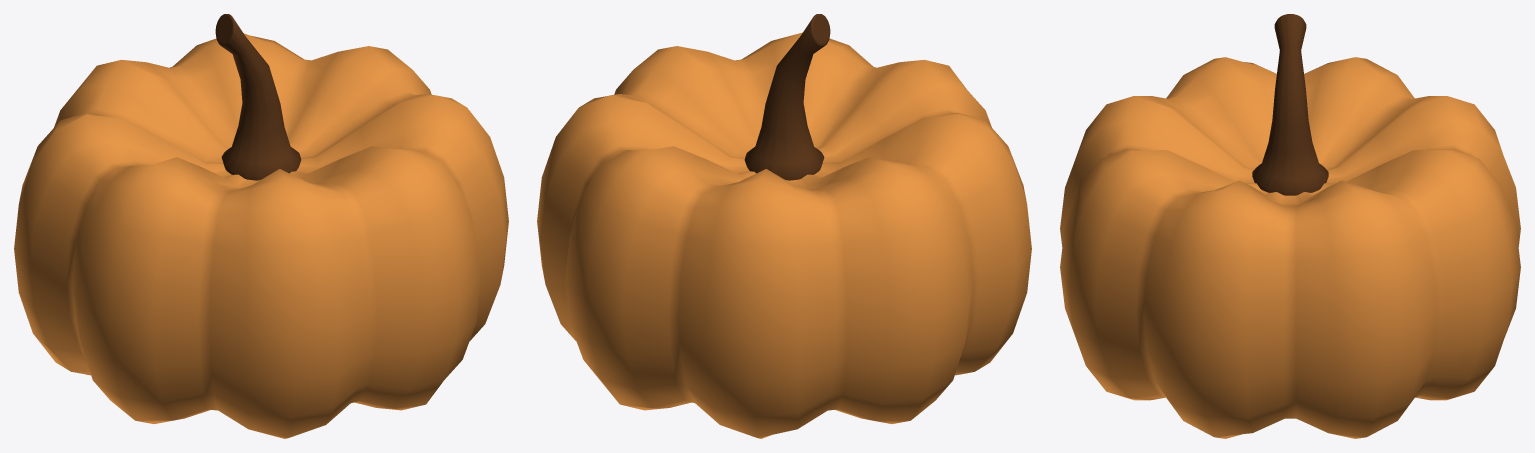
File: UncarvedPumpkin.glb
3 renders of one model, left to right at view 1: azimuth 30°, elevation 25°; view 2: azimuth 150°, elevation 25°; view 3: azimuth 270°, elevation 25°, orthographic. The views are drawn at different scales.
Visible parts, largest first — view 1: BaseUncarvedPumpkin; view 2: BaseUncarvedPumpkin; view 3: BaseUncarvedPumpkin.
Boxes of the visible parts, x1,y1,x2,y2 form: BaseUncarvedPumpkin: (14, 14, 508, 438); BaseUncarvedPumpkin: (537, 14, 1031, 438); BaseUncarvedPumpkin: (1060, 14, 1520, 438).
Size of the model in its own units: 1.92 by 1.58 by 1.92.
1 material, 1 textured.
